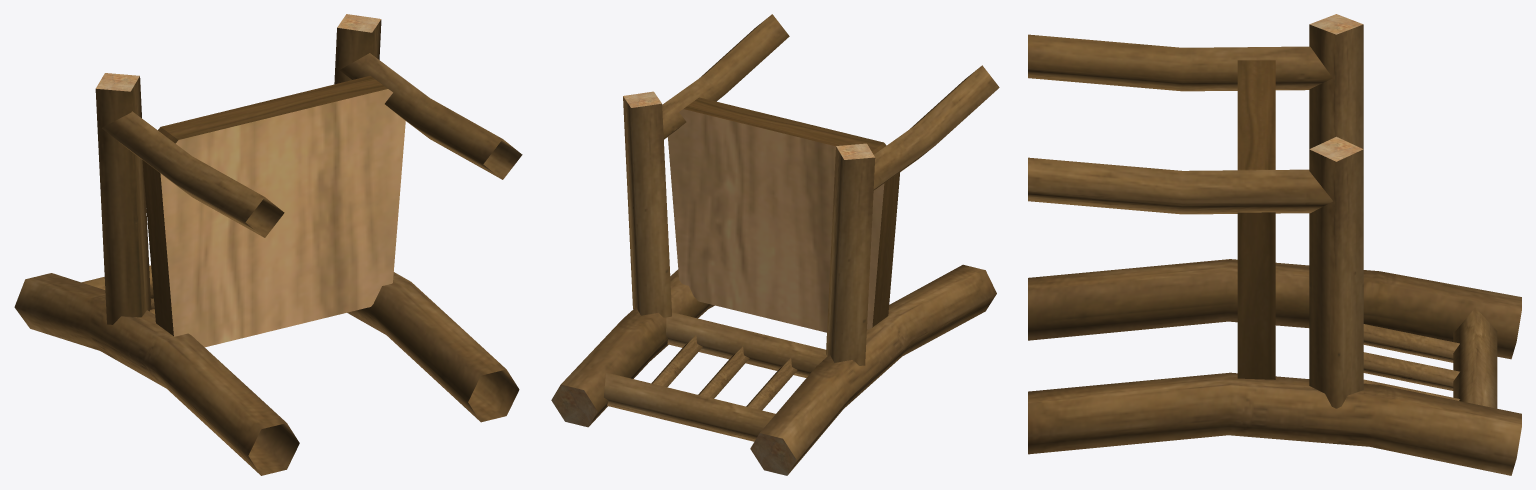
File: Log_Chair_D.fbx
3 views of the same model, side by side, from view 1: azimuth 30°, elevation 25°; view 2: azimuth 150°, elevation 25°; view 3: azimuth 270°, elevation 25° (orthographic). The views are drawn at different scales.
Visible parts, largest first — view 1: Log_Chair_D; view 2: Log_Chair_D; view 3: Log_Chair_D.
Part boxes in pixels (x1,y1,x2,y2): Log_Chair_D: (14, 14, 522, 475); Log_Chair_D: (551, 14, 999, 475); Log_Chair_D: (1028, 14, 1521, 475).
Bounding box in the file's own units: 6.81 × 6.98 × 9.6.
